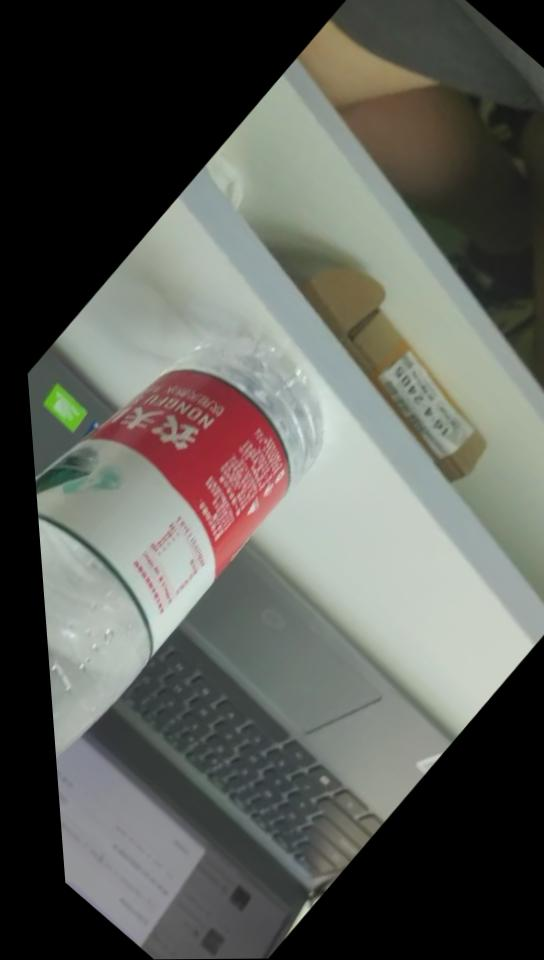plastic: (19, 260, 398, 835)
